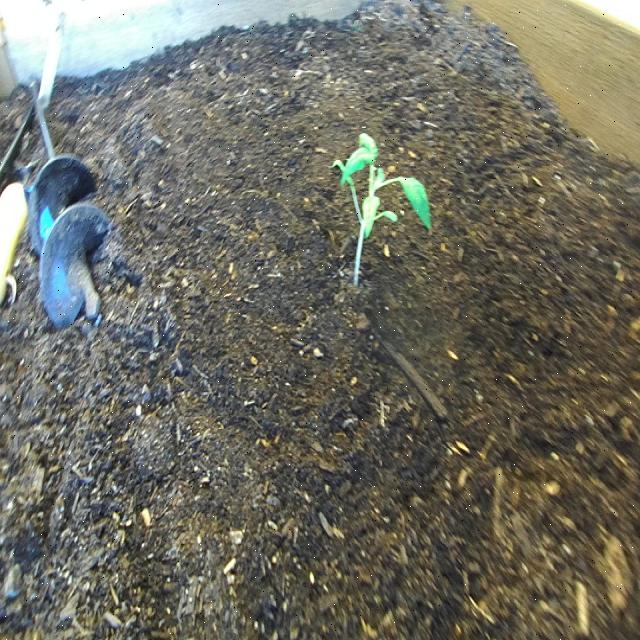Healthy: (324, 117, 439, 304)
